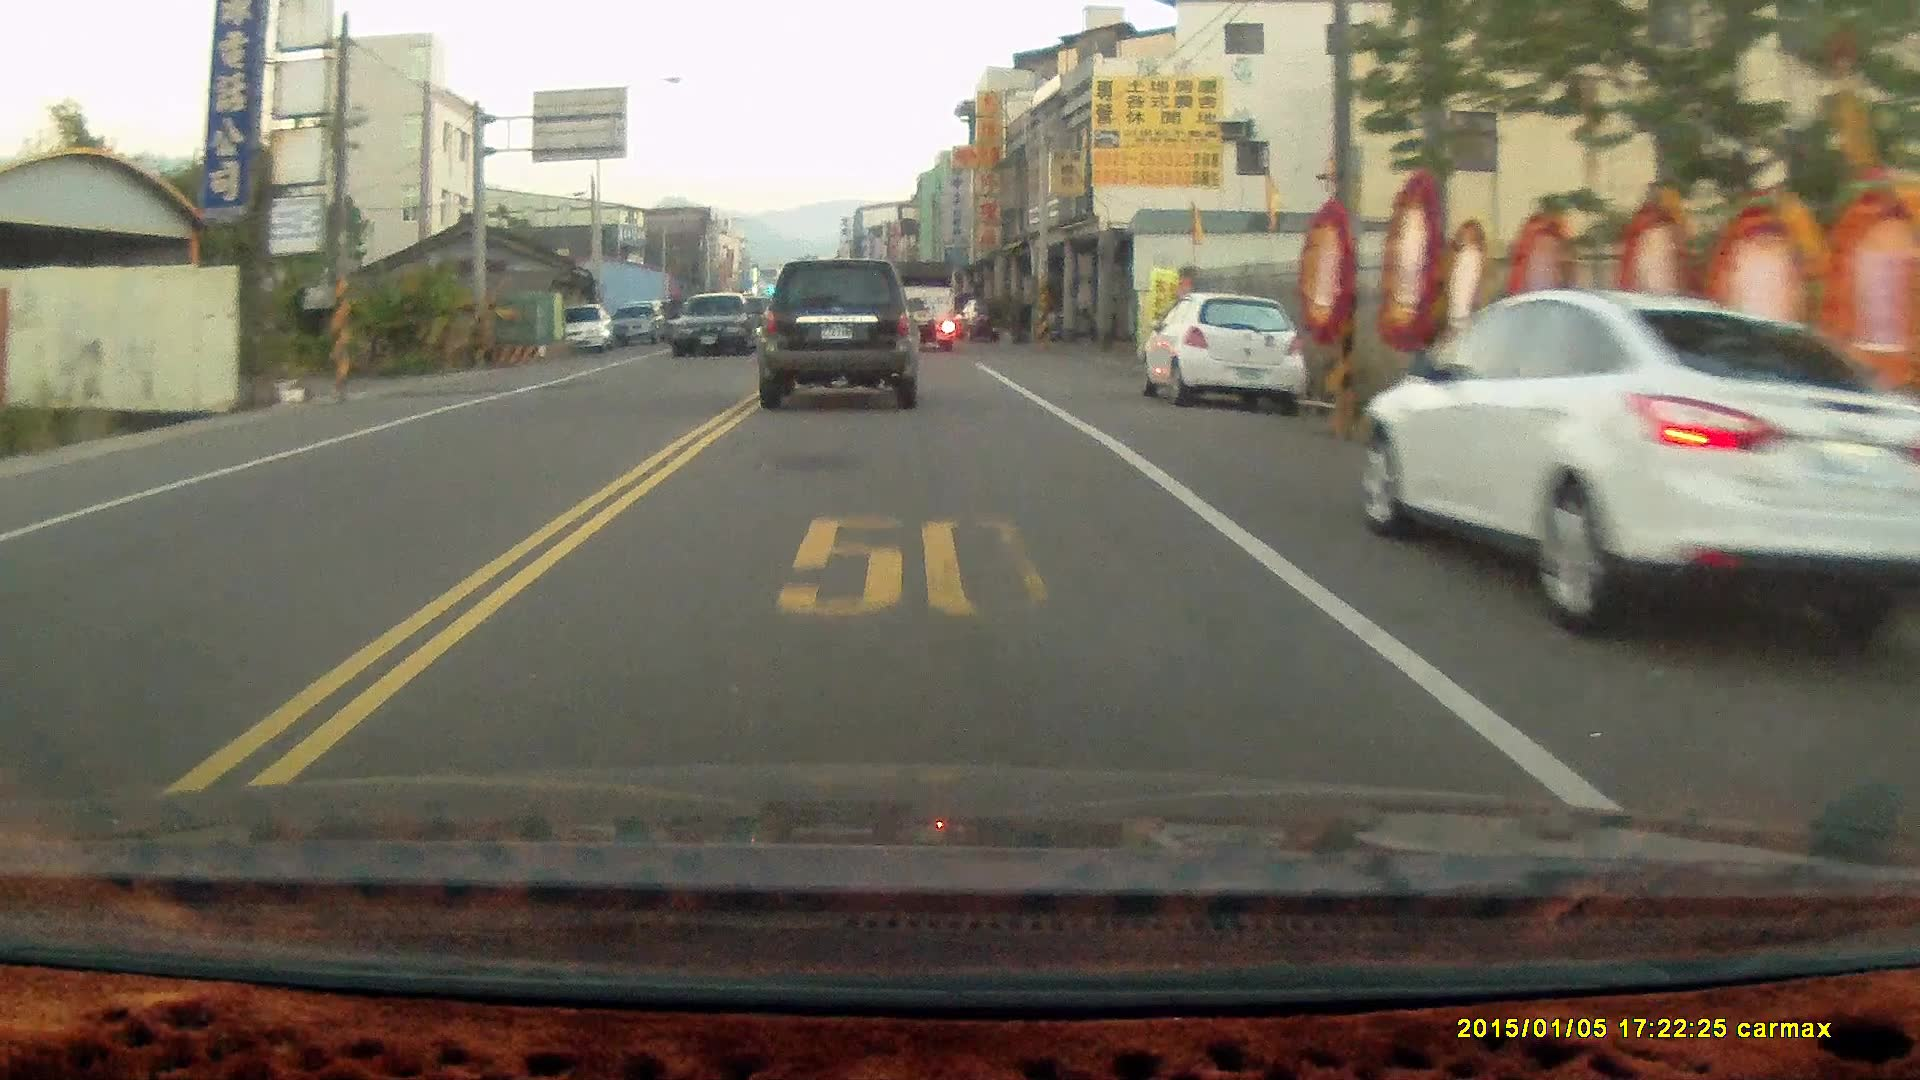vehicle: (1362, 287, 1913, 655), (753, 255, 920, 405), (1141, 294, 1305, 418), (885, 260, 961, 353), (674, 294, 760, 357)
